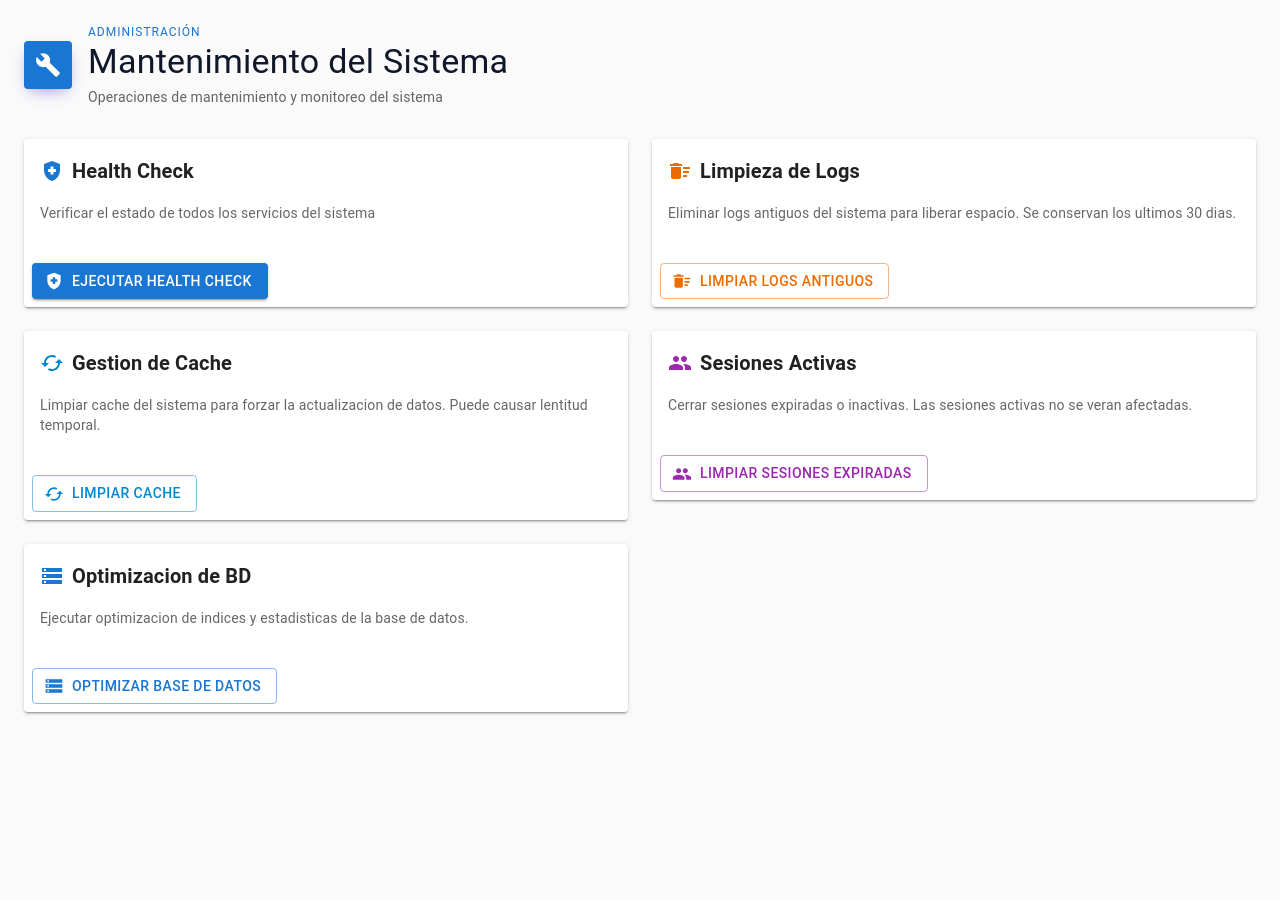
AdminMaintenance › should execute clear-logs action after confirmation
// Open dialog
Click the button "Limpiar Logs Antiguos" at (775, 281), box [660, 263, 889, 299]
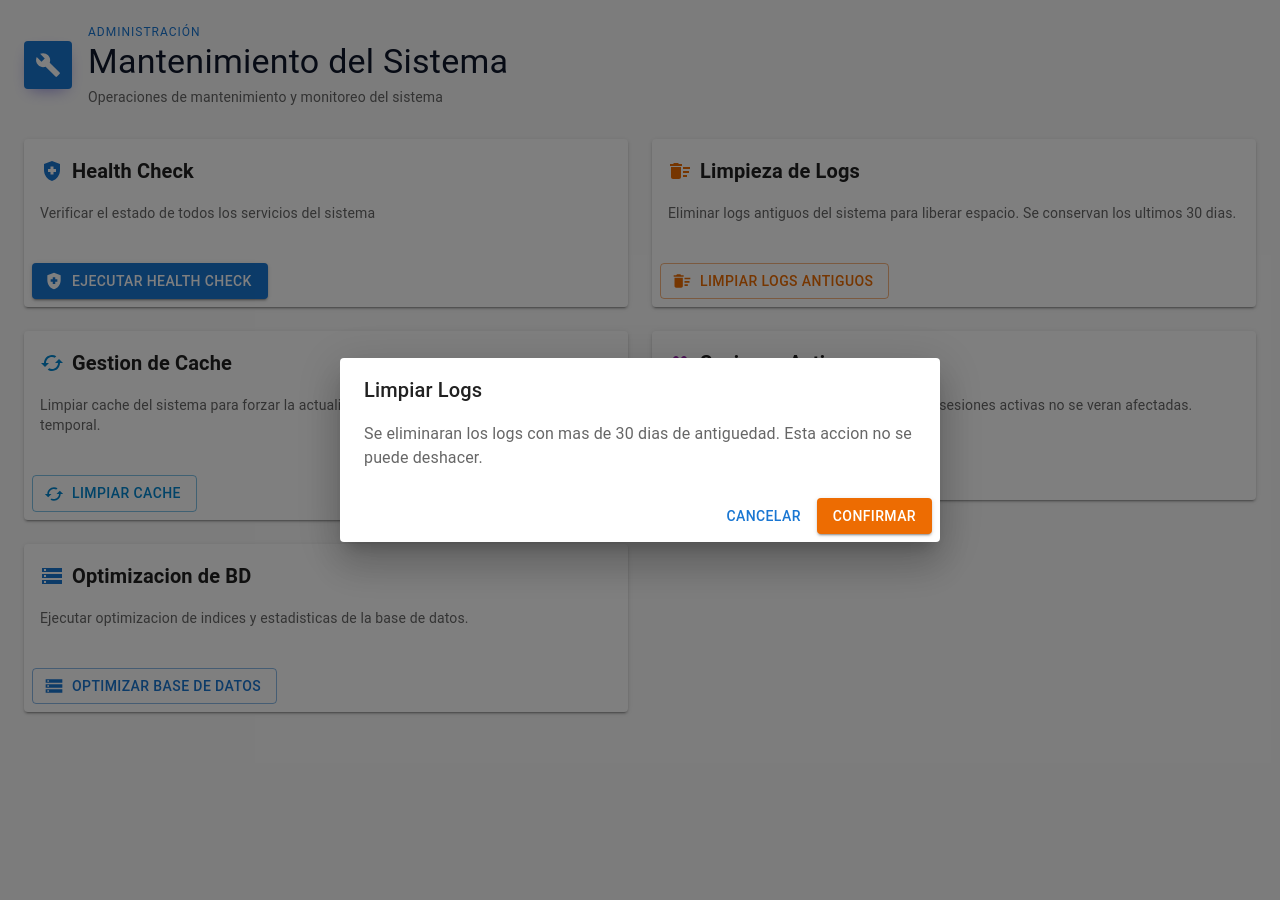
Click the button "Confirmar" at (874, 516), box [817, 498, 932, 534]
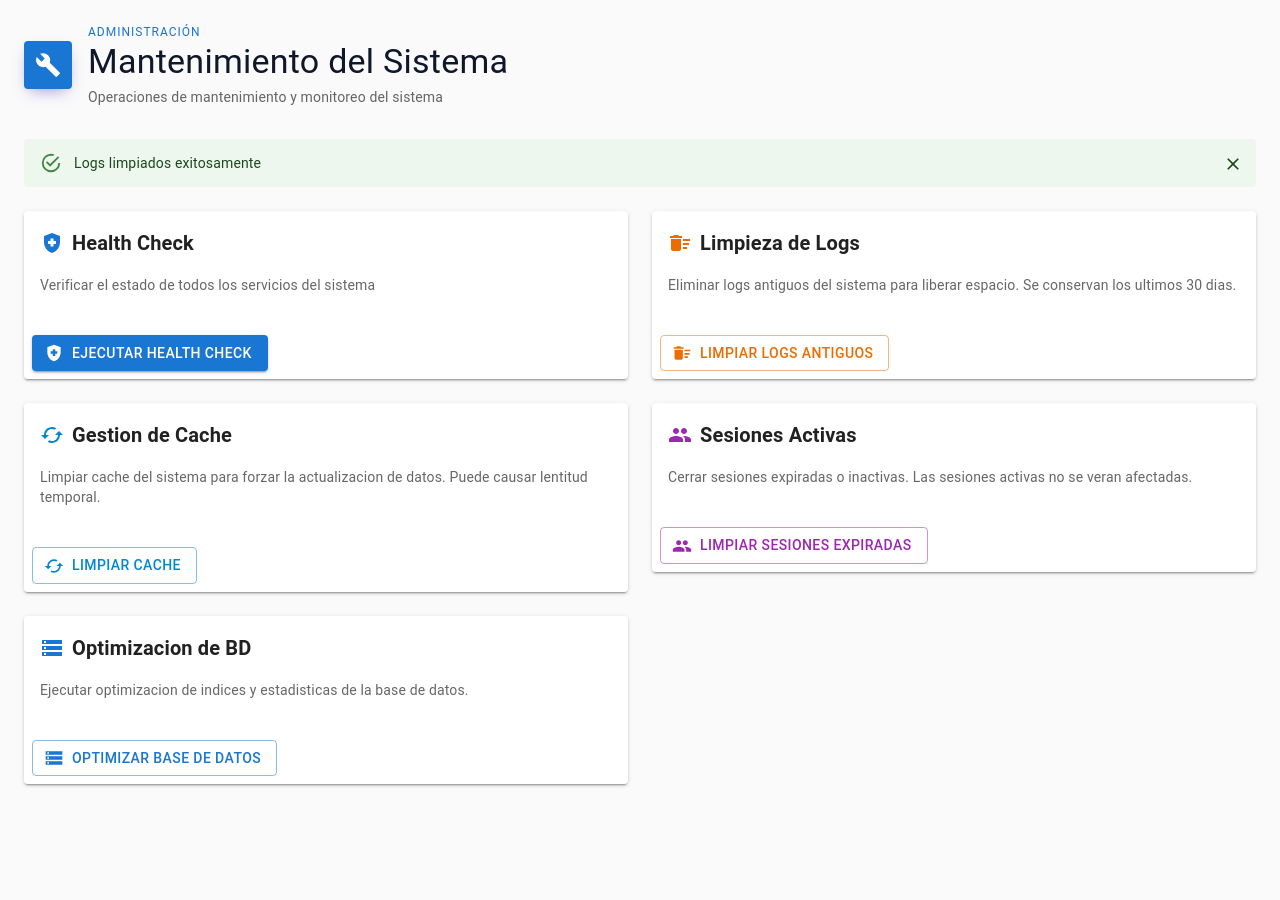
Check: the text "Logs limpiados exitosamente" is shown, box [74, 155, 261, 171]
